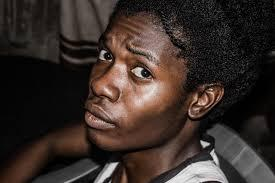Awake: (75, 0, 251, 164)
